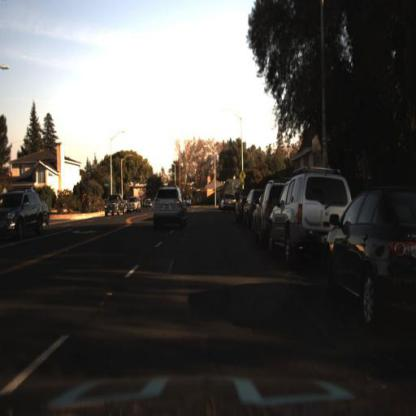car: (320, 183, 416, 333), (268, 168, 355, 265), (1, 189, 46, 243), (152, 188, 187, 233), (244, 186, 257, 227), (103, 196, 128, 217), (221, 192, 238, 217), (127, 197, 142, 215)
